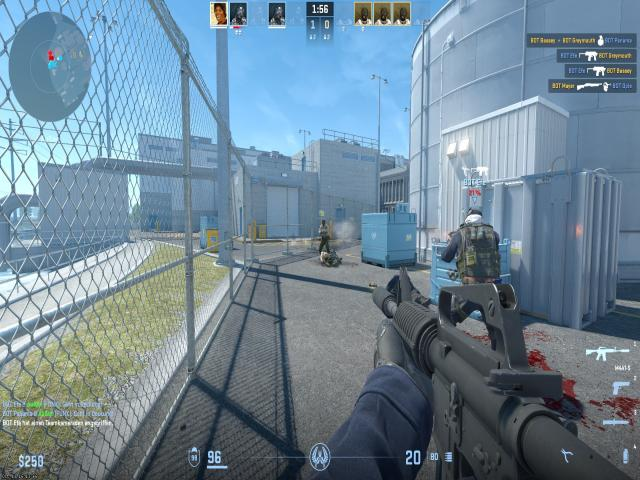Bomb: (367, 278, 381, 290)
CT: (448, 204, 510, 350)
CT-Head: (456, 205, 491, 240)
Dead: (386, 270, 432, 306), (319, 251, 342, 270)
T: (318, 218, 331, 253)
T-Head: (322, 220, 327, 227)
